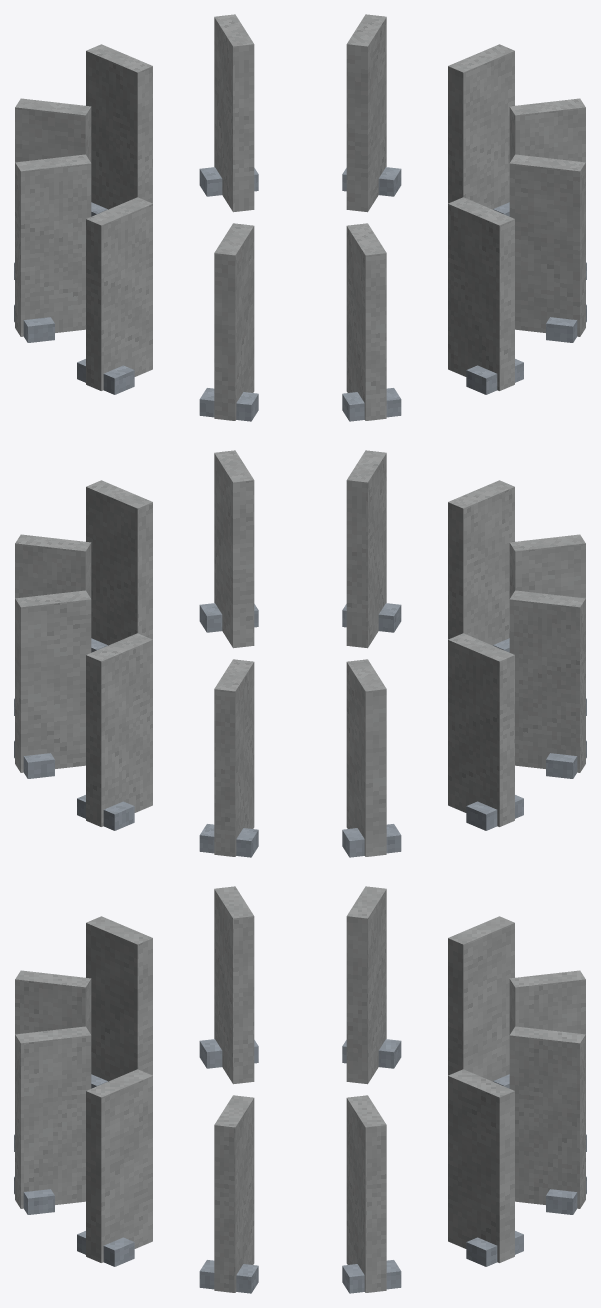
The model's file is level_blockout_shaft_ring.glb.
The picture shows the model from 3 angles, top to bottom: view 1: azimuth 30°, elevation 25°; view 2: azimuth 150°, elevation 25°; view 3: azimuth 270°, elevation 25°; orthographic projection.
Parts seen in each view (by area): view 1: level_blockout_shaft_ring; view 2: level_blockout_shaft_ring; view 3: level_blockout_shaft_ring.
Part boxes in pixels (x1,y1,x2,y2): level_blockout_shaft_ring: (14,14,586,421); level_blockout_shaft_ring: (14,450,586,857); level_blockout_shaft_ring: (14,886,586,1293).
Size of the model in its own units: 4.7 by 1.5 by 4.7.
2 materials, 2 textured.
